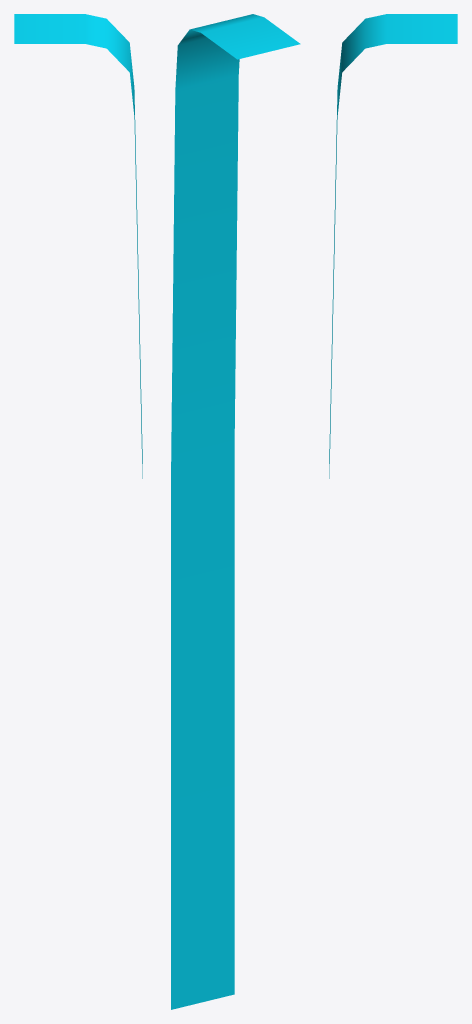
The model's file is Waterfall.fbx.
3 views of the same model, side by side, from view 1: azimuth 90°, elevation 25°; view 2: azimuth 210°, elevation 25°; view 3: azimuth 270°, elevation 25° (orthographic). The views are drawn at different scales.
Parts seen in each view (by area): view 1: Waterfall; view 2: Waterfall; view 3: Waterfall.
Boxes of the visible parts, x1=… form: Waterfall: x1=14, y1=14, x2=142, y2=478; Waterfall: x1=171, y1=14, x2=300, y2=1009; Waterfall: x1=329, y1=14, x2=457, y2=478.
Bounding box in the file's own units: 8114 × 122038 × 14699.
